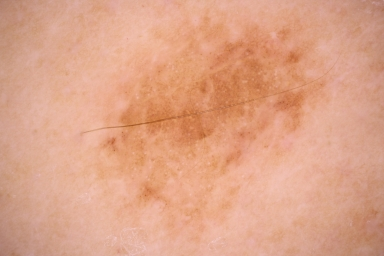nevus: (104, 44, 304, 149)
